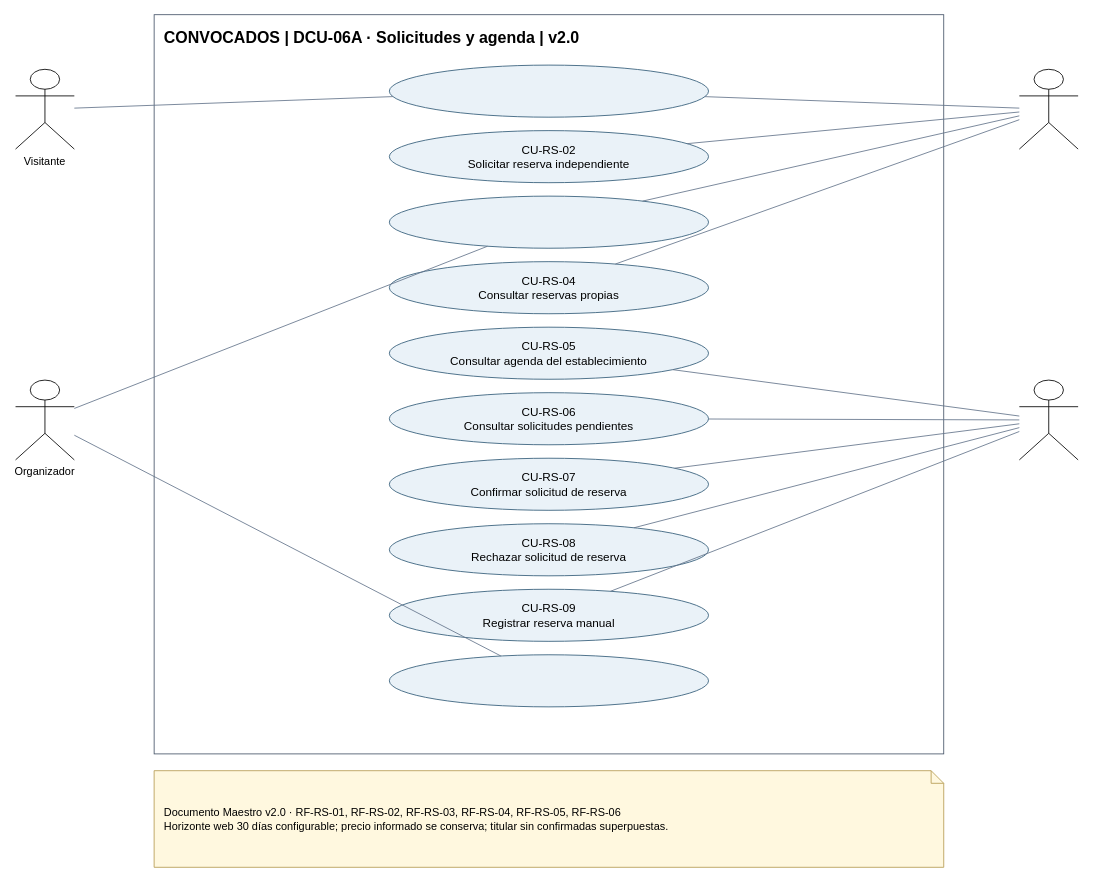
Image size: 1100x882. Some labels were removed from this diagram. Here are the shapes that lost their labels. From the top down, the centre of each, then its label:
At point (548, 90): "CU-RS-01 Consultar disponibilidad".
At point (1048, 108): "Usuario registrado".
At point (548, 221): "CU-RS-03 Solicitar reserva vinculada a partido".
At point (1048, 419): "Administrador de establecimiento".
At point (548, 680): "CU-RS-10 Cambiar cancha u horario ante rechazo".
